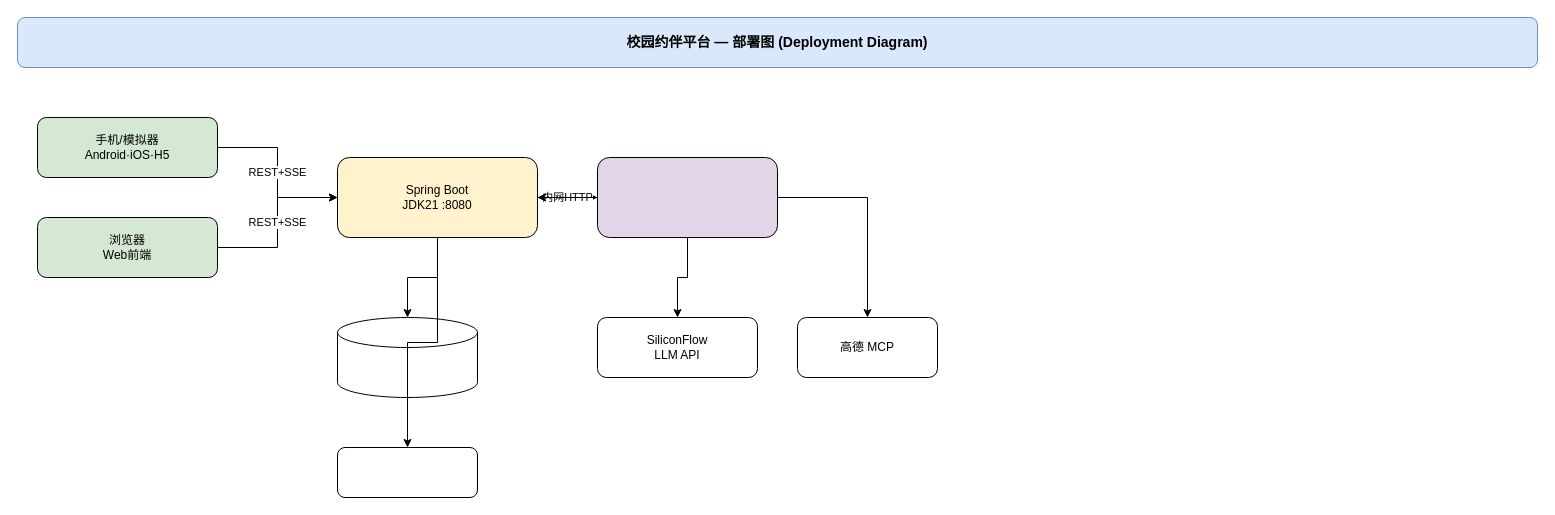
Image size: 1555x515. Some labels were removed from this diagram. Here are the shapes that lost their labels. From the top down, the centre of each, then its label:
At [687,197]: "Python Agent :5001".
At [407,357]: "MySQL :3306".
At [407,472]: "邮件 SMTP".
